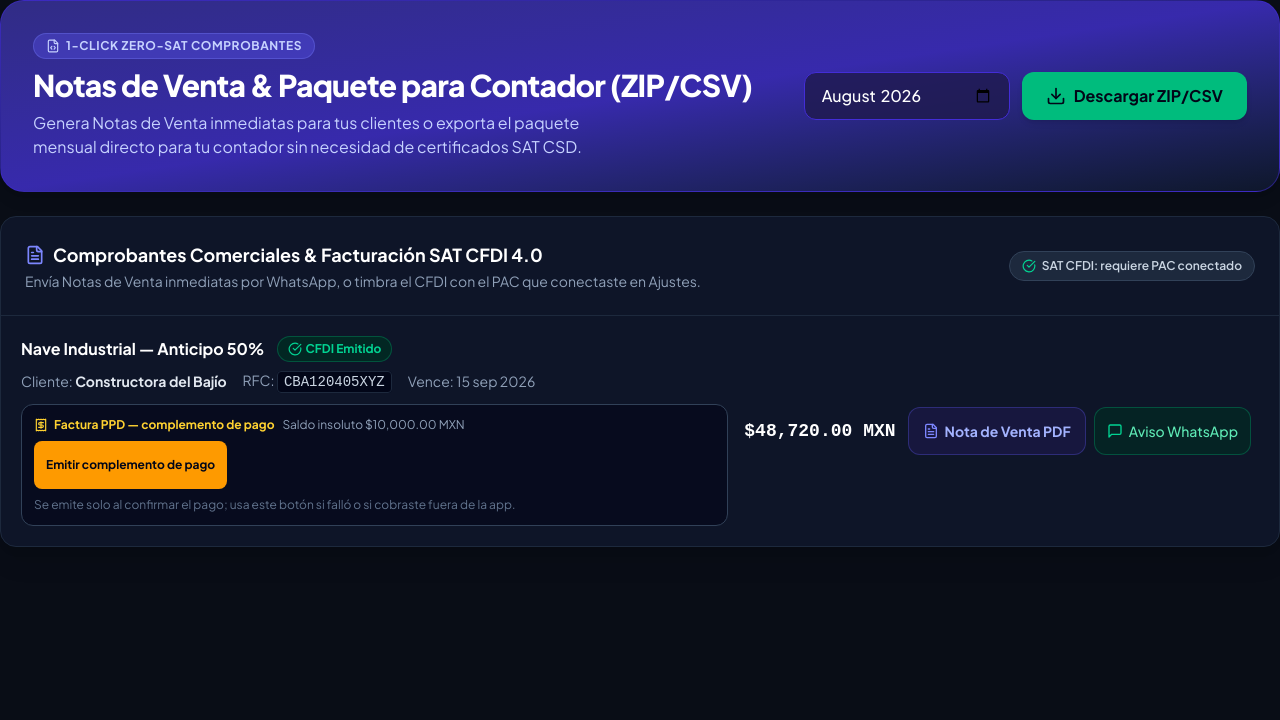
Test: the manual complemento reports a surplus rather than dropping it (#272) › says nothing about a surplus when there was none
The width and height of the screenshot is (1280, 720).
Click the button "Emitir complemento de pago". click: (131, 465)
box: [34, 441, 227, 489]
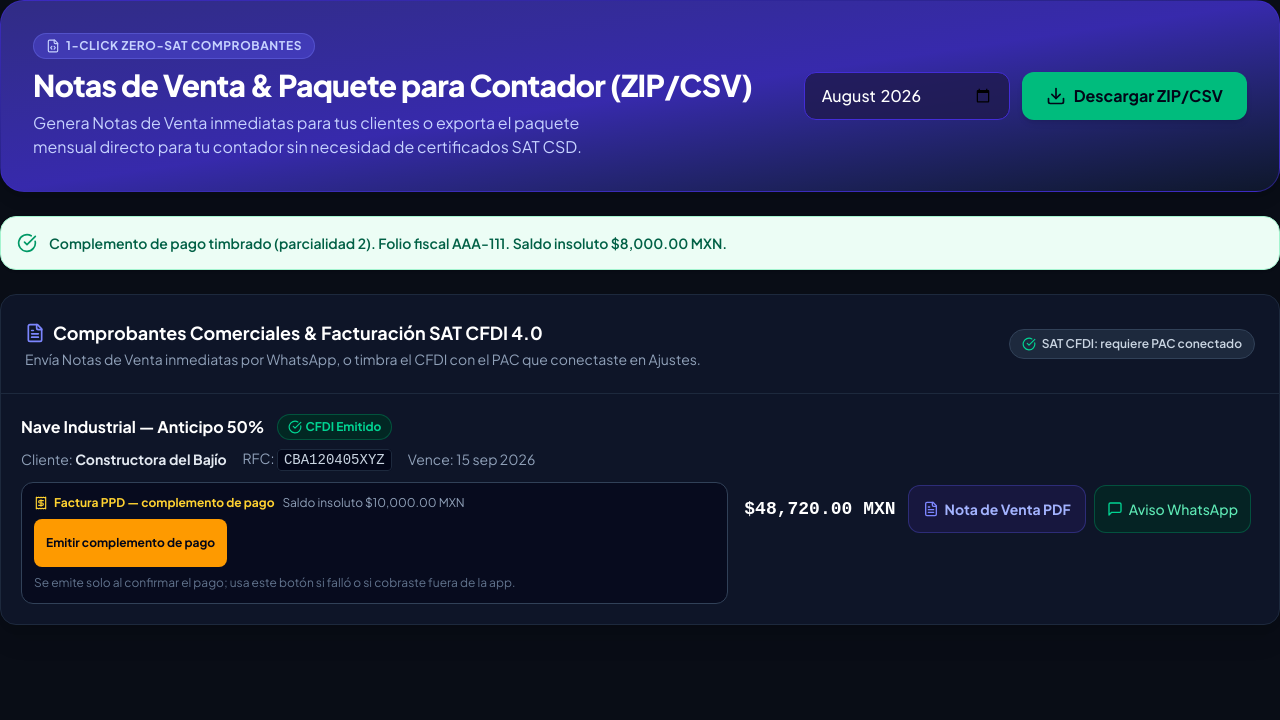
Expected: the text "Folio fiscal AAA-111" is shown, [49, 234, 727, 252]
